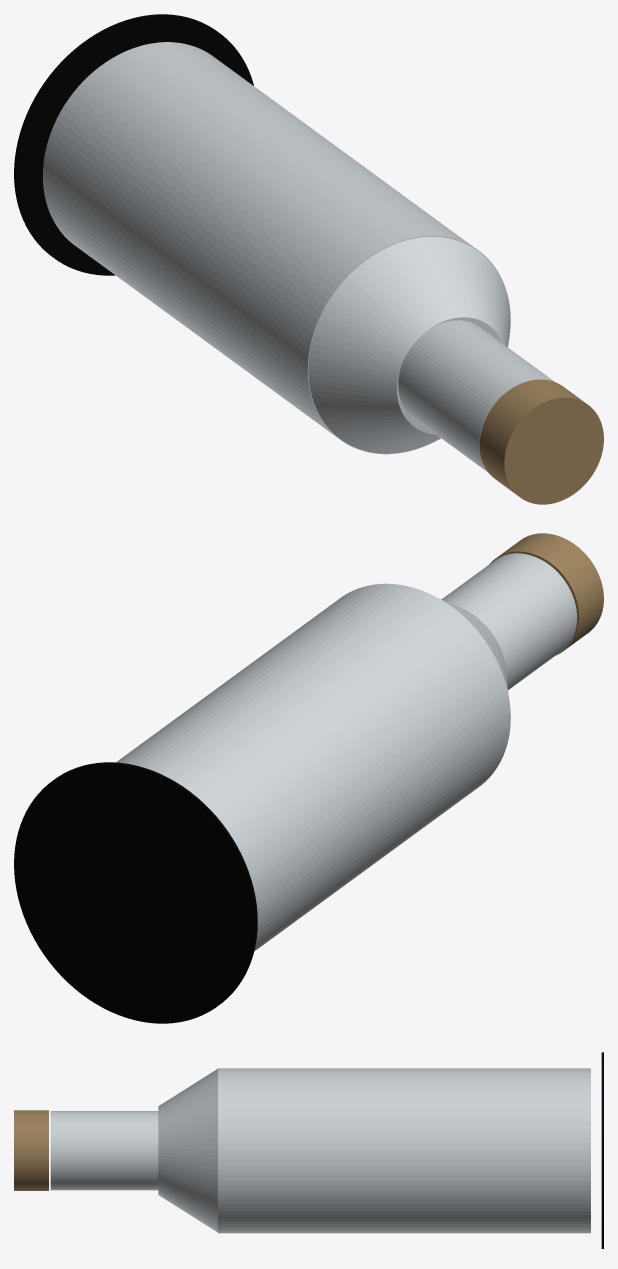
File: akhmeteli_chacha_gold.glb
The picture shows the model from 3 angles, top to bottom: view 1: azimuth 30°, elevation 25°; view 2: azimuth 150°, elevation 25°; view 3: azimuth 270°, elevation 25°; orthographic projection. The views are drawn at different scales.
Visible parts, largest first — view 1: world; view 2: world; view 3: world.
Boxes of the visible parts, x1,y1,x2,y2 form: world: (14, 14, 603, 504); world: (14, 533, 603, 1023); world: (14, 1052, 603, 1248).
Bounding box in the file's own units: 1.24 × 1.24 × 3.72.
